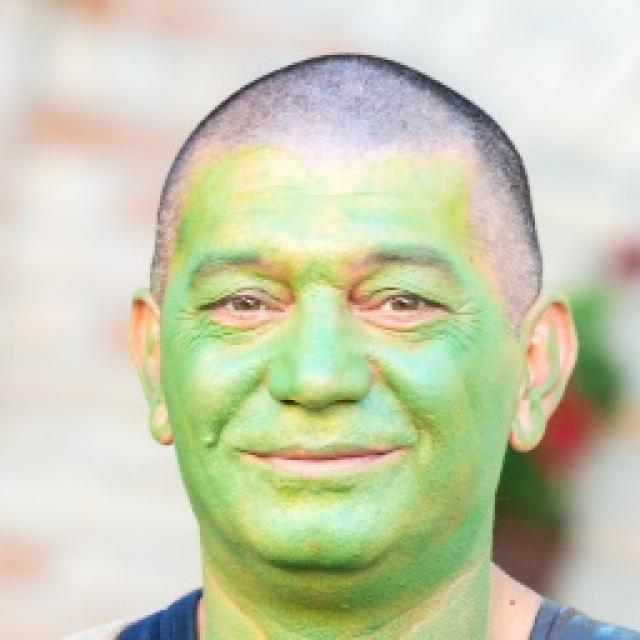earlobe: (507, 398, 545, 454), (144, 390, 174, 446)
eye: (211, 290, 277, 320), (368, 292, 434, 314)
nose: (264, 385, 369, 450)
wholeear: (508, 291, 579, 453), (128, 288, 174, 446)
